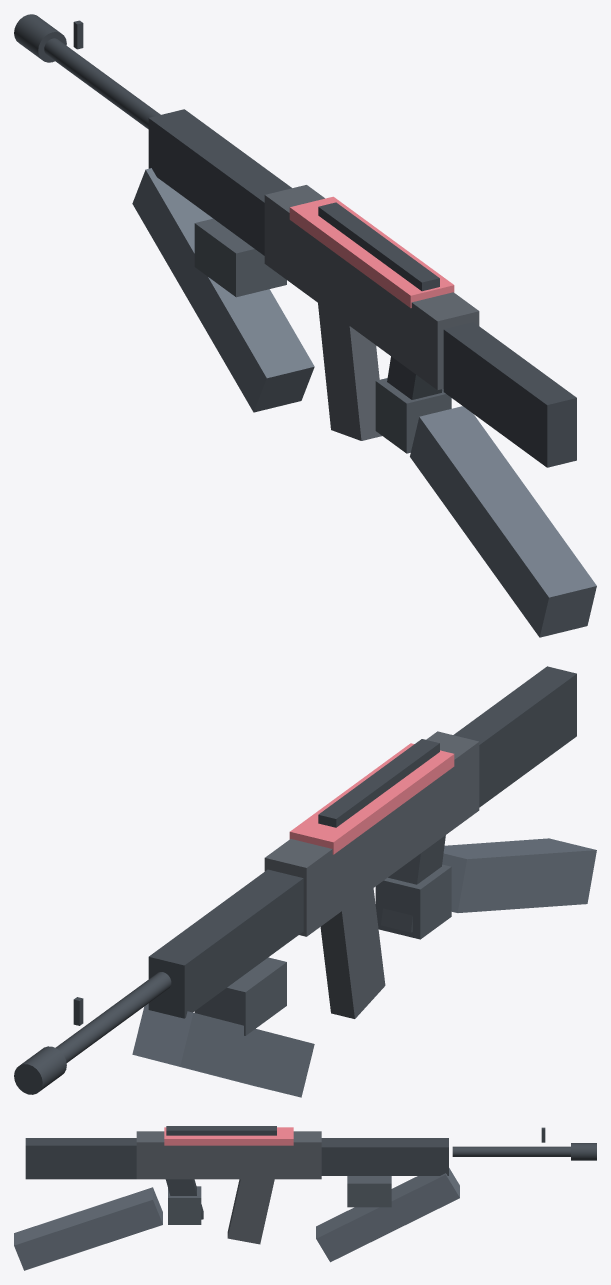
The model's file is vandal.glb.
3 views of the same model, one above another, from view 1: azimuth 30°, elevation 25°; view 2: azimuth 150°, elevation 25°; view 3: azimuth 270°, elevation 25° (orthographic). The views are drawn at different scales.
Visible parts, largest first — view 1: vandal; view 2: vandal; view 3: vandal.
Part boxes in pixels (<box>): vandal: <box>14,14,596,637</box>; vandal: <box>14,666,596,1097</box>; vandal: <box>14,1126,596,1270</box>.
Bounding box in the file's own units: 0.085 × 0.4062 × 1.58.
